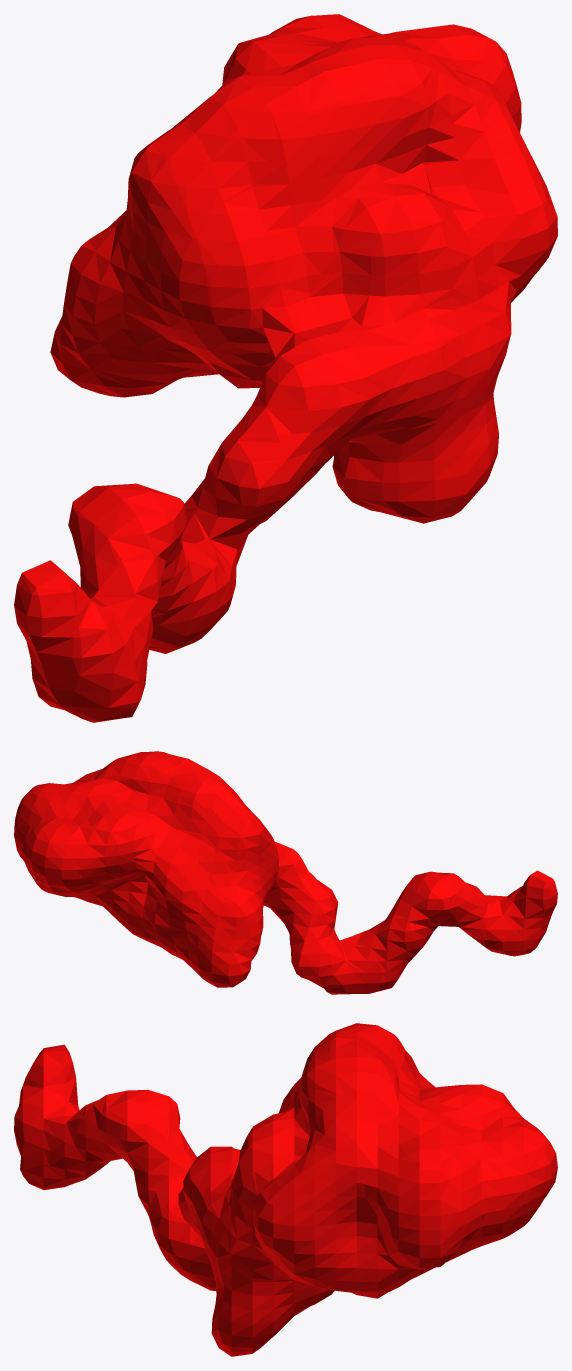
Rendered from yqjI_coarse.dae.
3 renders of one model, top to bottom at view 1: azimuth 30°, elevation 25°; view 2: azimuth 150°, elevation 25°; view 3: azimuth 270°, elevation 25°, orthographic. The views are drawn at different scales.
Visible parts, largest first — view 1: yqjI; view 2: yqjI; view 3: yqjI.
Part boxes in pixels (bbox=[...]): yqjI: bbox=[14, 14, 557, 722]; yqjI: bbox=[14, 751, 557, 994]; yqjI: bbox=[14, 1023, 557, 1356].
Size of the model in its own units: 88.37 by 50.72 by 75.82.
